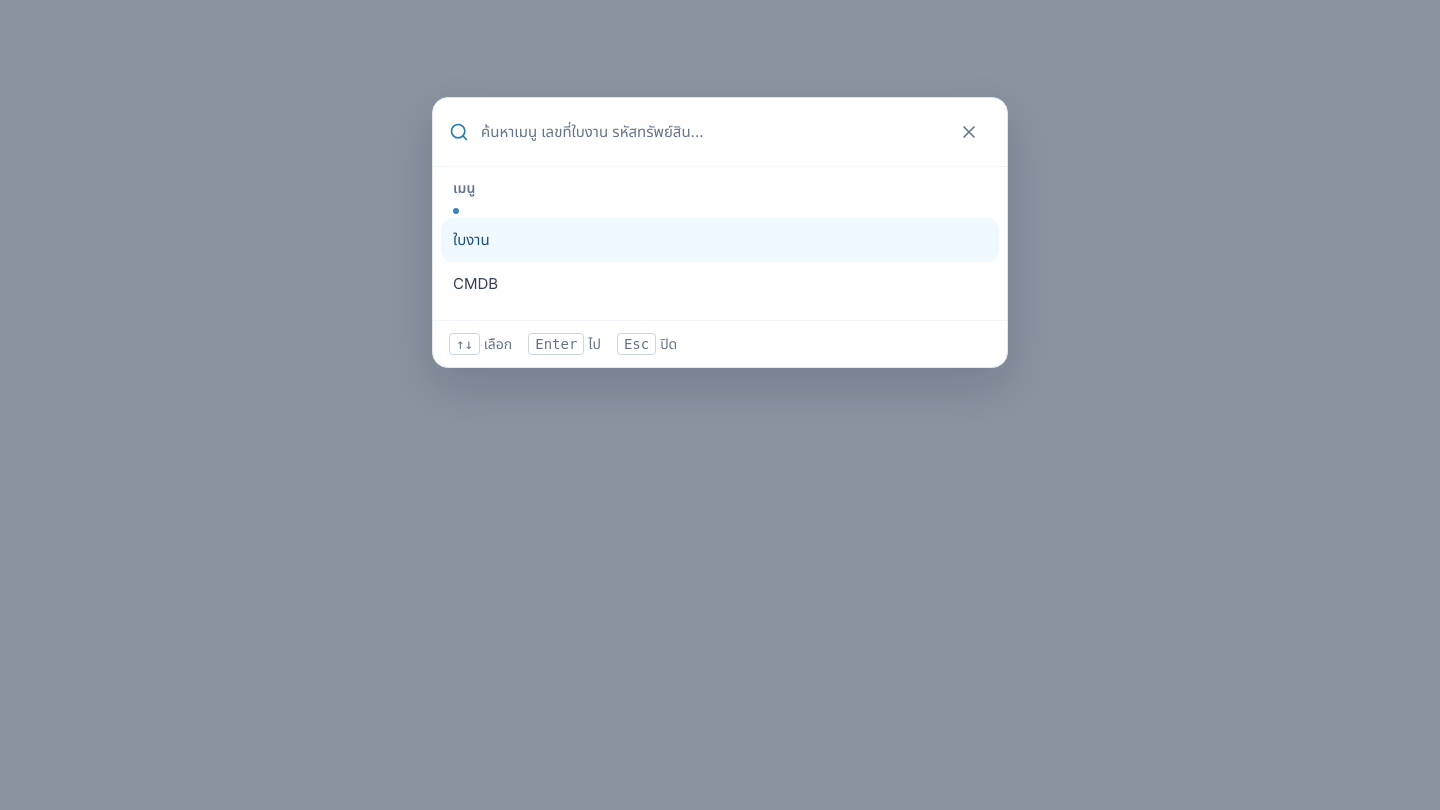
Scenario: CommandPalette › ค้นได้ถึงตัวข้อมูลจริง ไม่ใช่แค่ชื่อเมนู
Step 1. Type "TCK-1042" into the field named "คำค้นหา" → (708, 132), box [481,110,935,154]
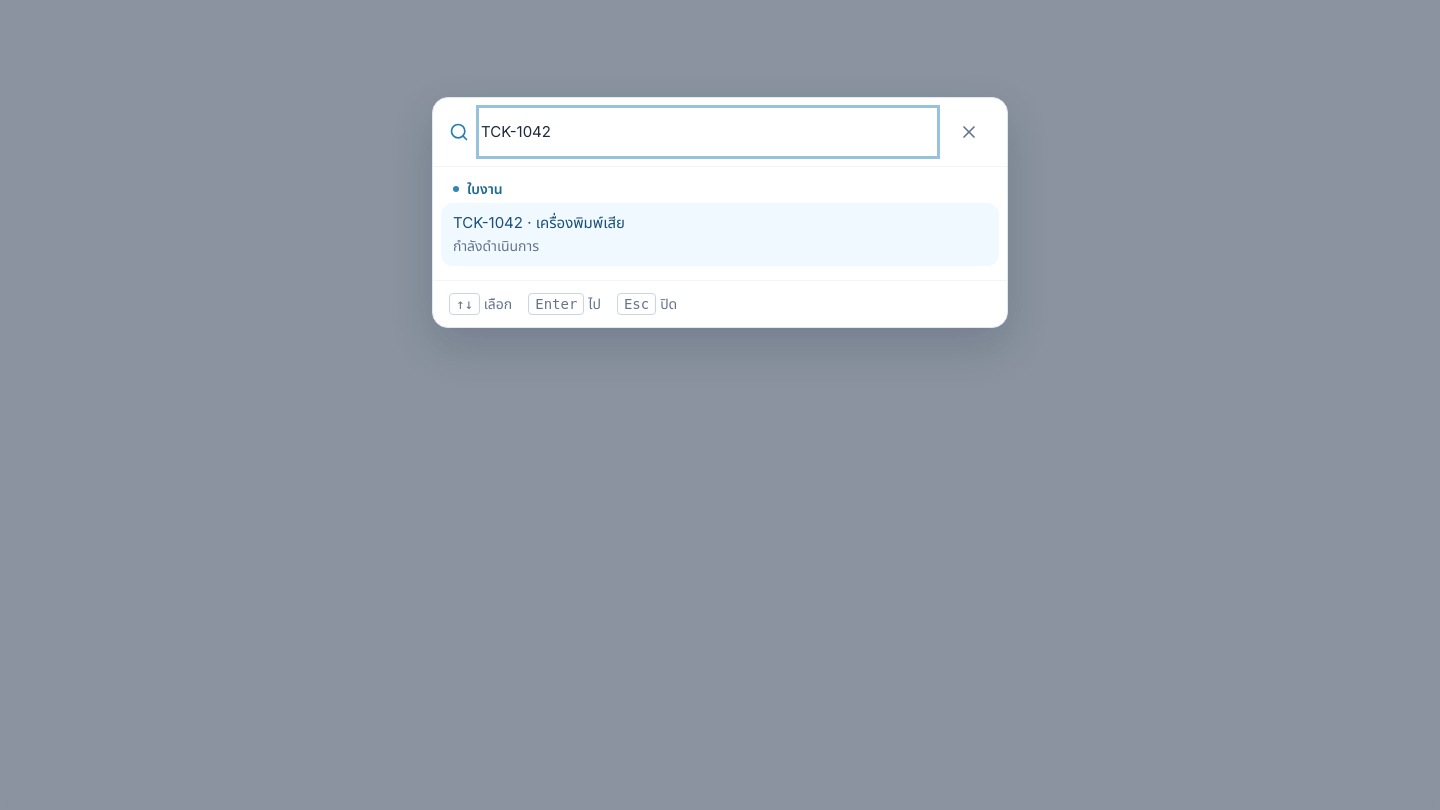
Expected: the text "TCK-1042 · เครื่องพิมพ์เสีย" is shown, [453,213,625,232]
Expected: the text "กำลังดำเนินการ" is shown, [453,237,539,254]
